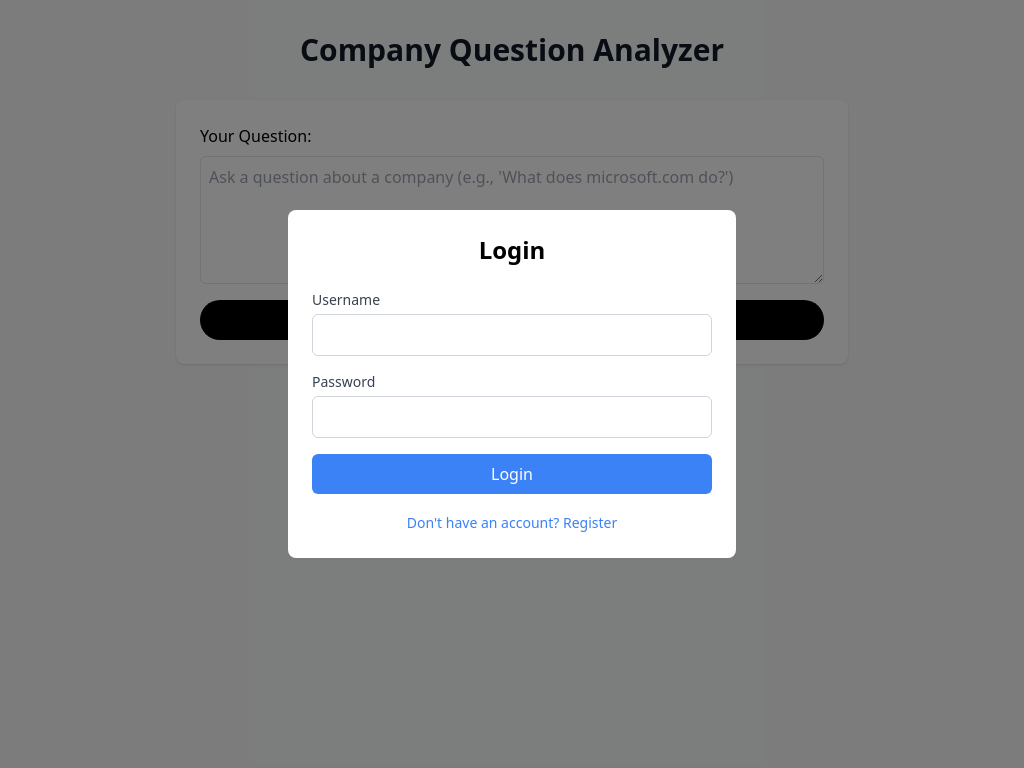
Integration Tests › Authentication Integration Tests › should handle login error and show error message
Type "baduser" into the field labelled "Username" at (512, 335), box [312, 314, 712, 356]
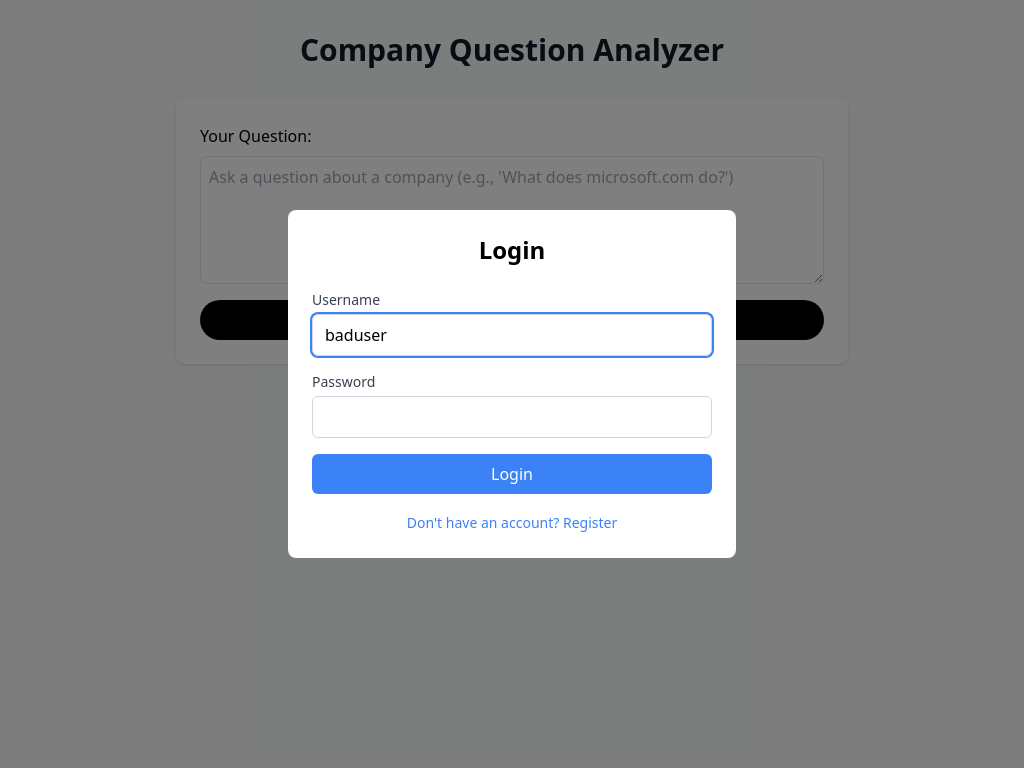
Type "badpass" into the password field labelled "Password" at (512, 417), box [312, 396, 712, 438]
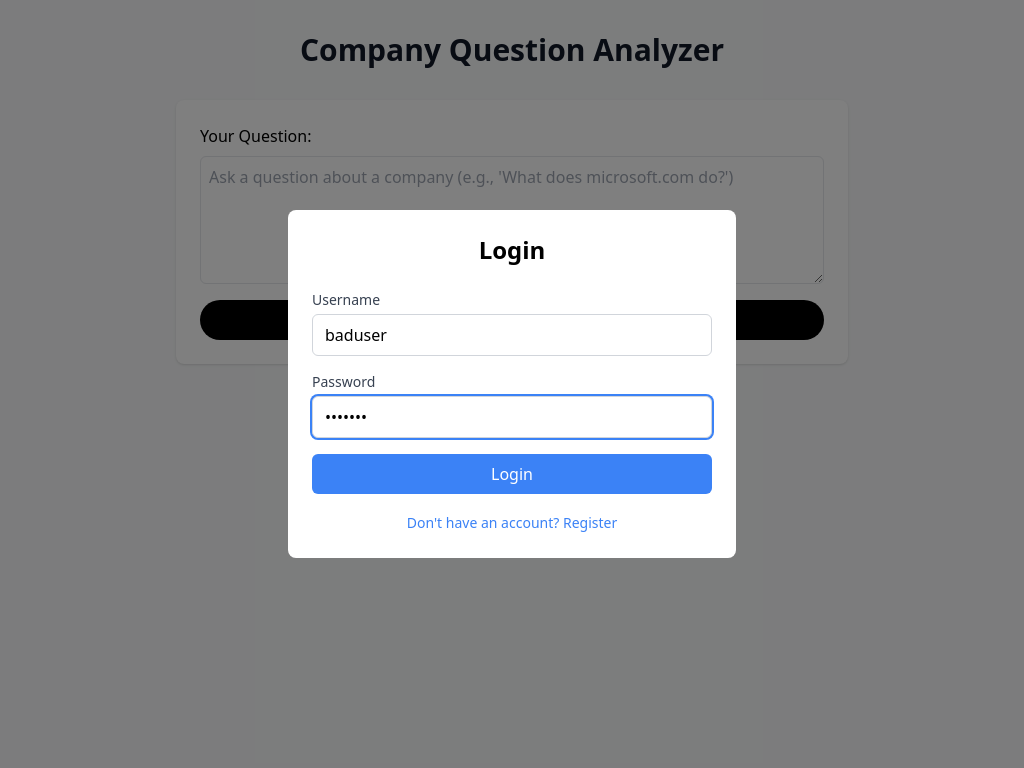
Click the button "Login" at (512, 474), box [312, 454, 712, 494]
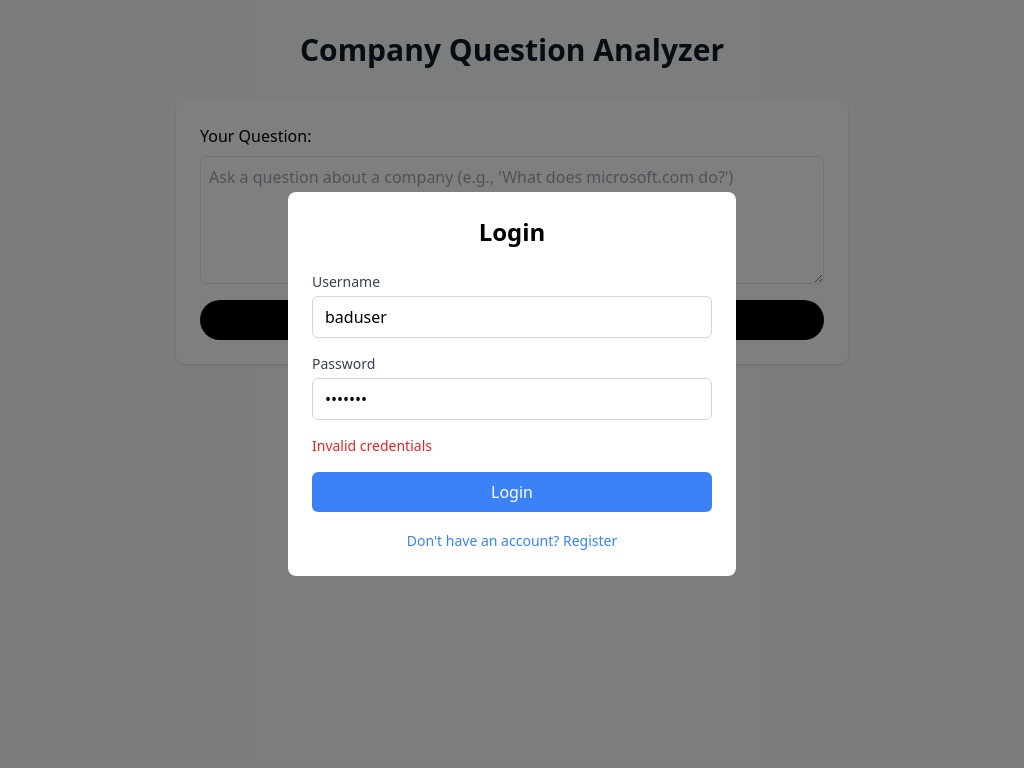
Expected: the heading "Login" is shown, [479, 215, 545, 248]
Expected: the text "Invalid credentials" is shown, [312, 436, 432, 455]
